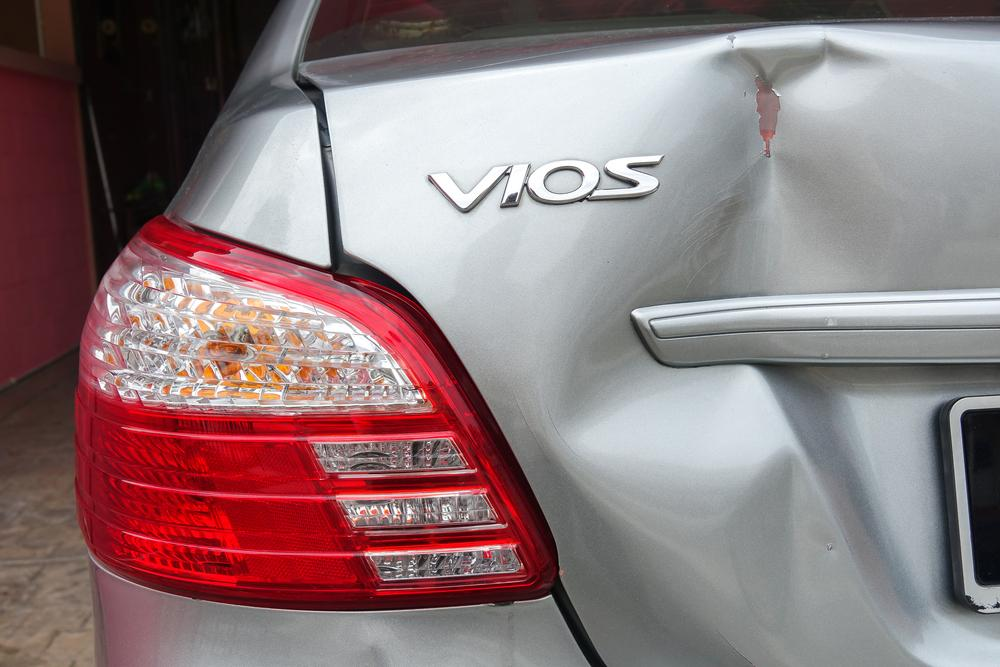dent: (557, 34, 894, 667)
